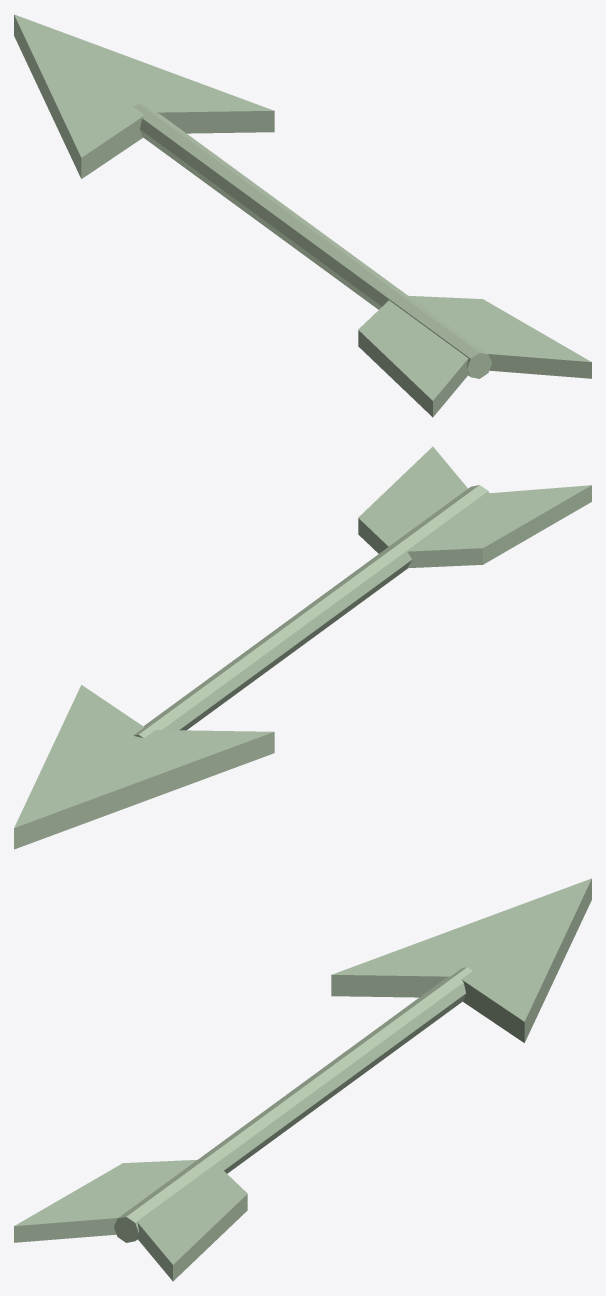
Rendered from SM_WC_ArrowGlyph.fbx.
3 renders of one model, top to bottom at view 1: azimuth 30°, elevation 25°; view 2: azimuth 150°, elevation 25°; view 3: azimuth 330°, elevation 25°, orthographic.
Parts seen in each view (by area): view 1: SM_WC_ArrowGlyph; view 2: SM_WC_ArrowGlyph; view 3: SM_WC_ArrowGlyph.
Boxes of the visible parts, x1,y1,x2,y2 form: SM_WC_ArrowGlyph: (14, 14, 591, 417); SM_WC_ArrowGlyph: (14, 446, 591, 849); SM_WC_ArrowGlyph: (14, 878, 591, 1281).
Bounding box in the file's own units: 17 × 76 × 2.2.
